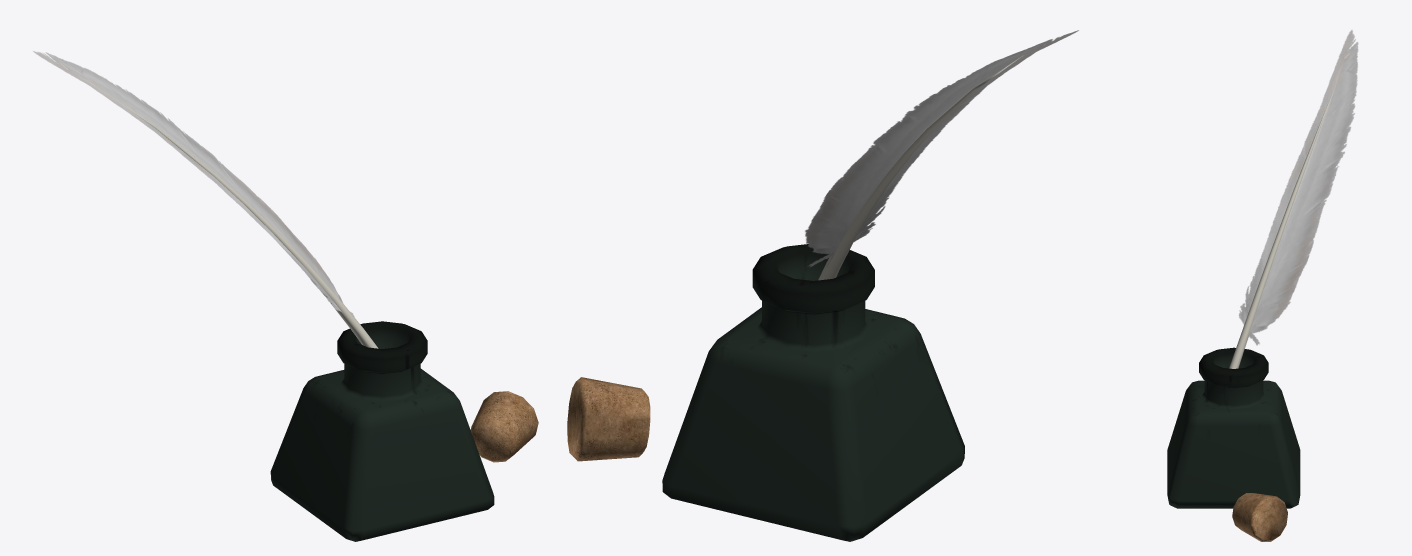
Rendered from ink-bottle-quill.glb.
3 views of the same model, side by side, from view 1: azimuth 30°, elevation 25°; view 2: azimuth 150°, elevation 25°; view 3: azimuth 270°, elevation 25° (orthographic). The views are drawn at different scales.
Parts seen in each view (by area): view 1: InkBottle, Quill, Cork; view 2: InkBottle, Quill, Cork; view 3: InkBottle, Quill, Cork.
Boxes of the visible parts, bbox=[...] form: InkBottle: bbox=[270, 321, 494, 541]; Quill: bbox=[33, 51, 378, 348]; Cork: bbox=[470, 391, 538, 462]; InkBottle: bbox=[662, 244, 964, 541]; Quill: bbox=[805, 30, 1078, 280]; Cork: bbox=[567, 377, 650, 461]; InkBottle: bbox=[1167, 347, 1300, 508]; Quill: bbox=[1229, 29, 1358, 368]; Cork: bbox=[1232, 493, 1287, 541].
Bounding box in the file's own units: 300 × 289 × 166.
Materials: 3 (3 with a texture image).
